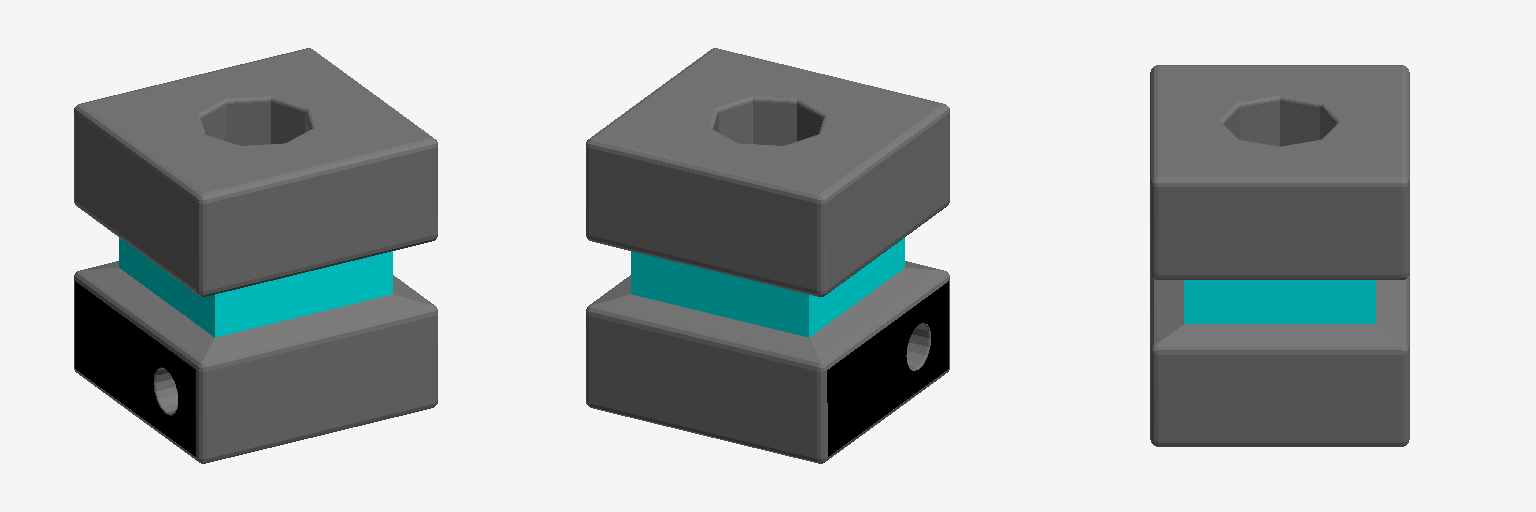
File: Texturing_Demo_11-4.obj
3 renders of one model, left to right at view 1: azimuth 30°, elevation 25°; view 2: azimuth 150°, elevation 25°; view 3: azimuth 270°, elevation 25°, orthographic.
Visible parts, largest first — view 1: pCube1; view 2: pCube1; view 3: pCube1.
Part boxes in pixels (bbox=[...]): pCube1: bbox=[74, 48, 437, 463]; pCube1: bbox=[586, 48, 949, 463]; pCube1: bbox=[1150, 65, 1409, 446].
Size of the model in its own units: 7.99 by 8.55 by 7.45.